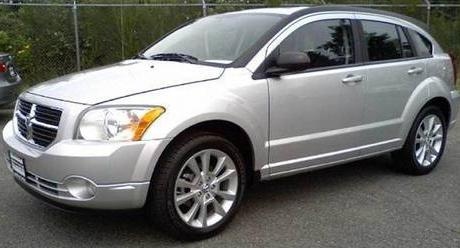front_view: (7, 93, 180, 194)
headlight: (74, 99, 161, 152)
side_glass: (265, 13, 424, 69)
